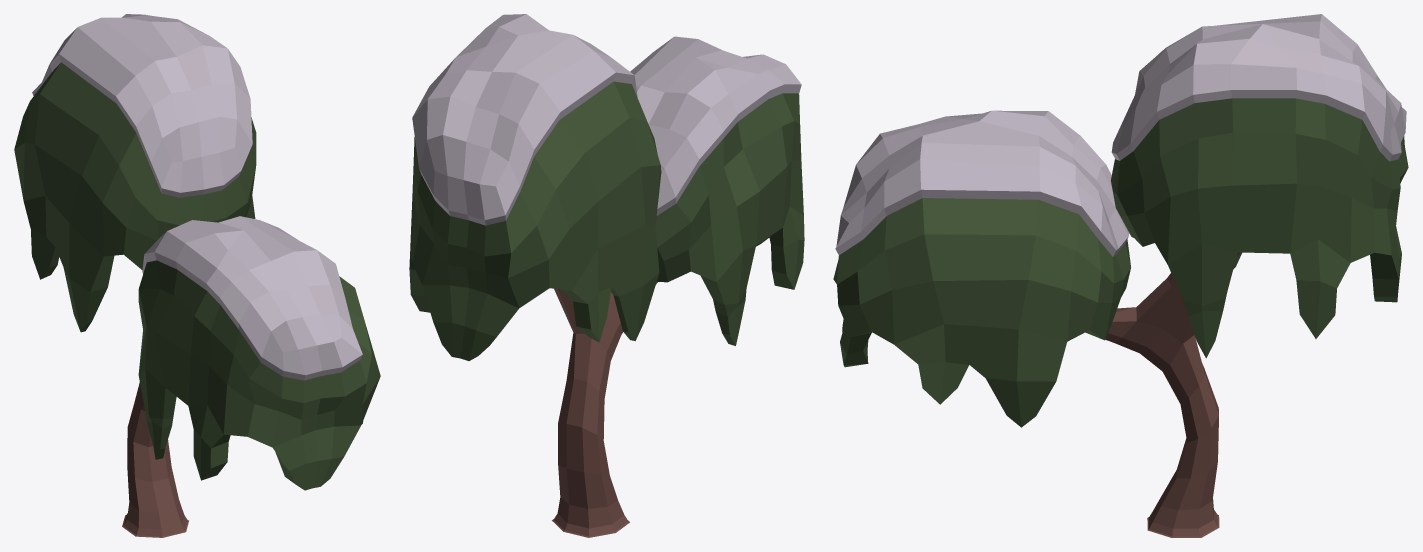
File: willow_snow_5.glb
3 renders of one model, left to right at view 1: azimuth 30°, elevation 25°; view 2: azimuth 150°, elevation 25°; view 3: azimuth 270°, elevation 25°, orthographic. The views are drawn at different scales.
Parts seen in each view (by area): view 1: Willow_Snow_5; view 2: Willow_Snow_5; view 3: Willow_Snow_5.
Part boxes in pixels (x1,y1,x2,y2): Willow_Snow_5: (14,14,380,537); Willow_Snow_5: (409,14,804,537); Willow_Snow_5: (833,14,1408,537).
Bounding box in the file's own units: 2.42 × 5.91 × 5.98.
